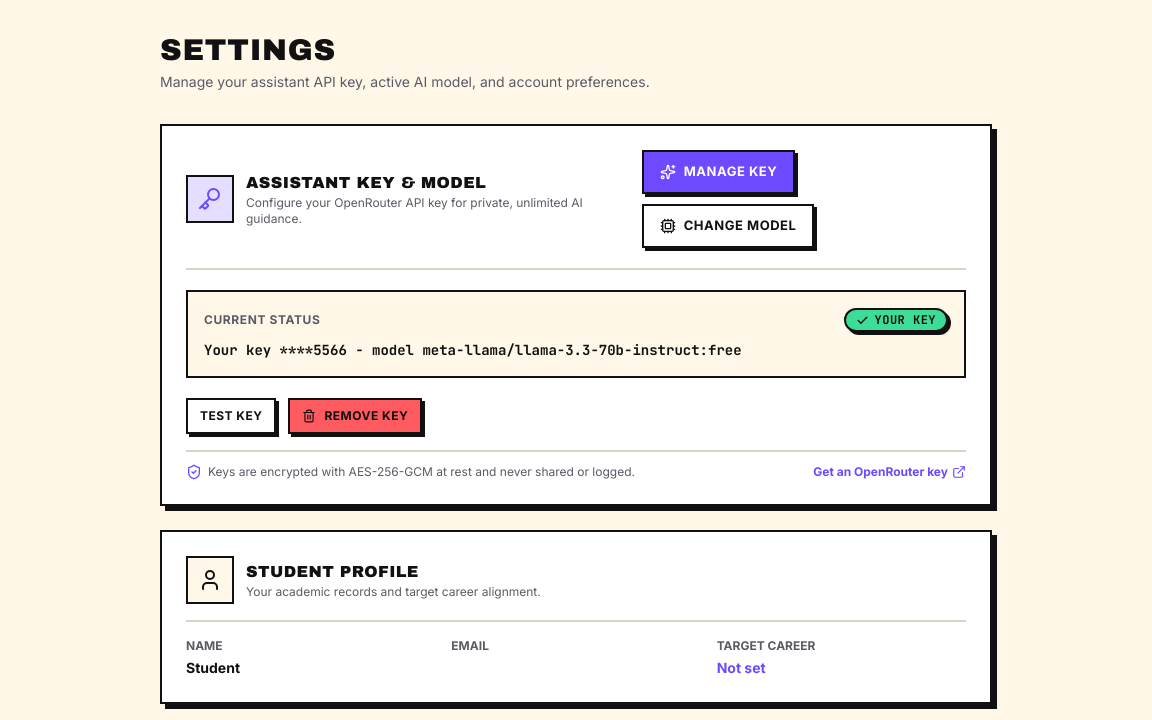
Test: Settings Page › test key shows readable error on failure while keeping key saved and offering remove key
The image size is (1152, 720).
Step 1. Click the button "TEST KEY" → (231, 416), box [186,398,276,434]
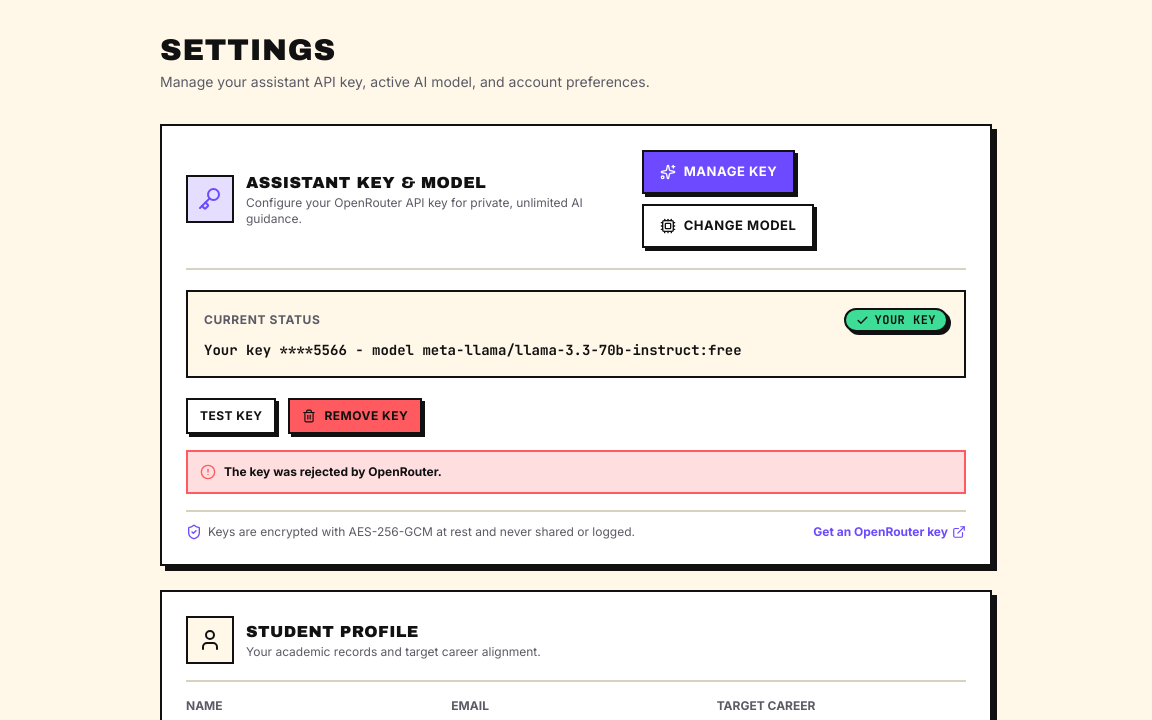
Expected: the text with test id "key-status-text" shows "Your key ****5566", [204,341,742,359]
Now the text "The key was rejected by OpenRouter." is shown, box [224,464,442,480]
